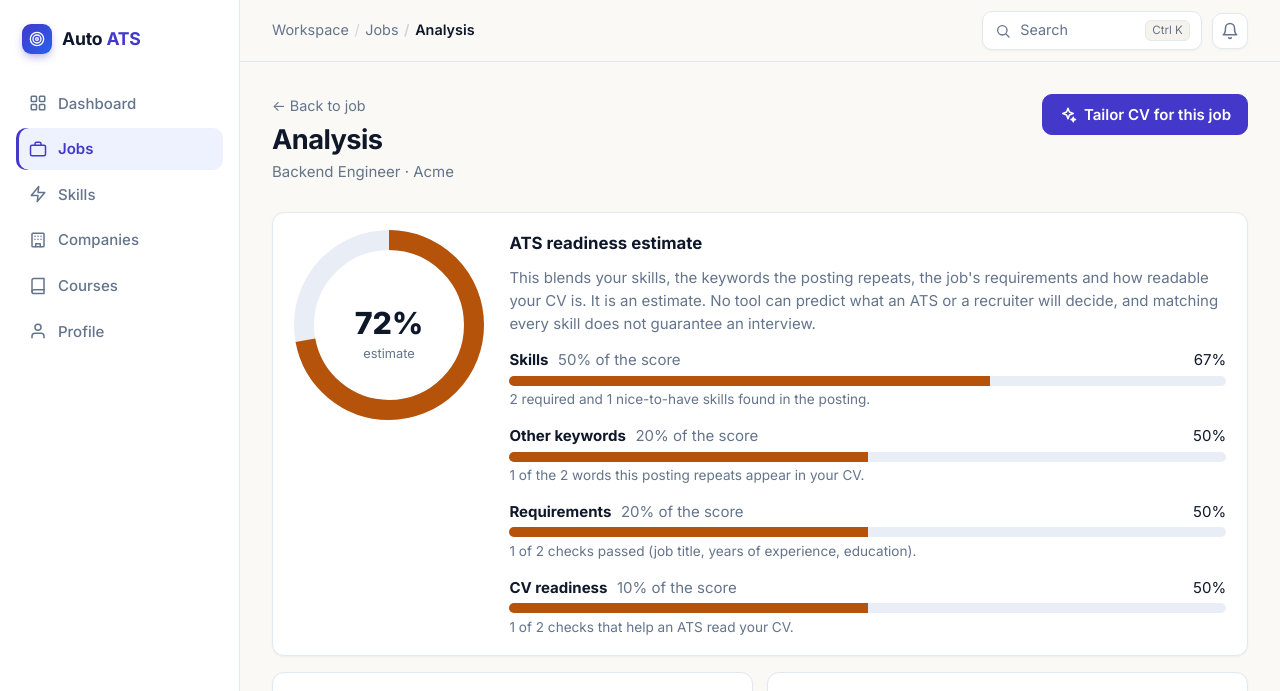
Test: AnalysisPage special cases › GivenAnalysisPage_WhenClickingTailor_ThenJobPageOpens
Click the link "Tailor CV for this job" at {"x": 1145, "y": 115}, box 1042,94 -> 1248,135
(page scrolled)
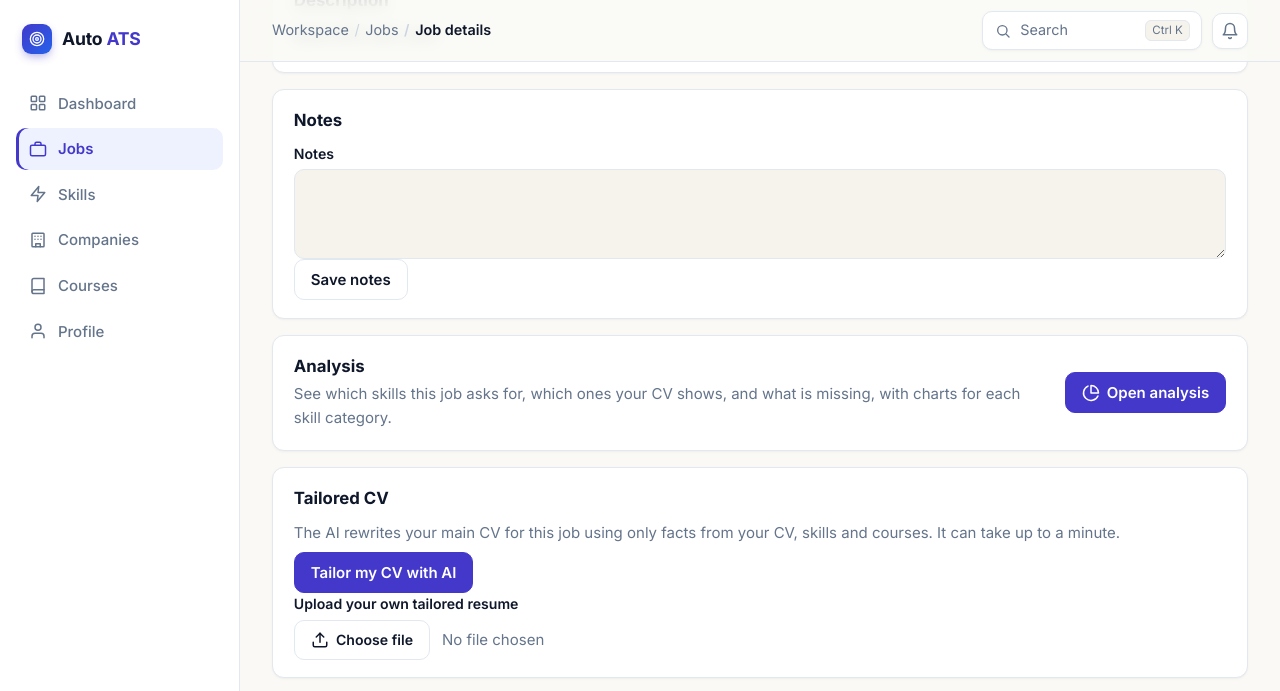
Result: the button "Tailor my CV with AI" is shown at 294,552 -> 473,594
